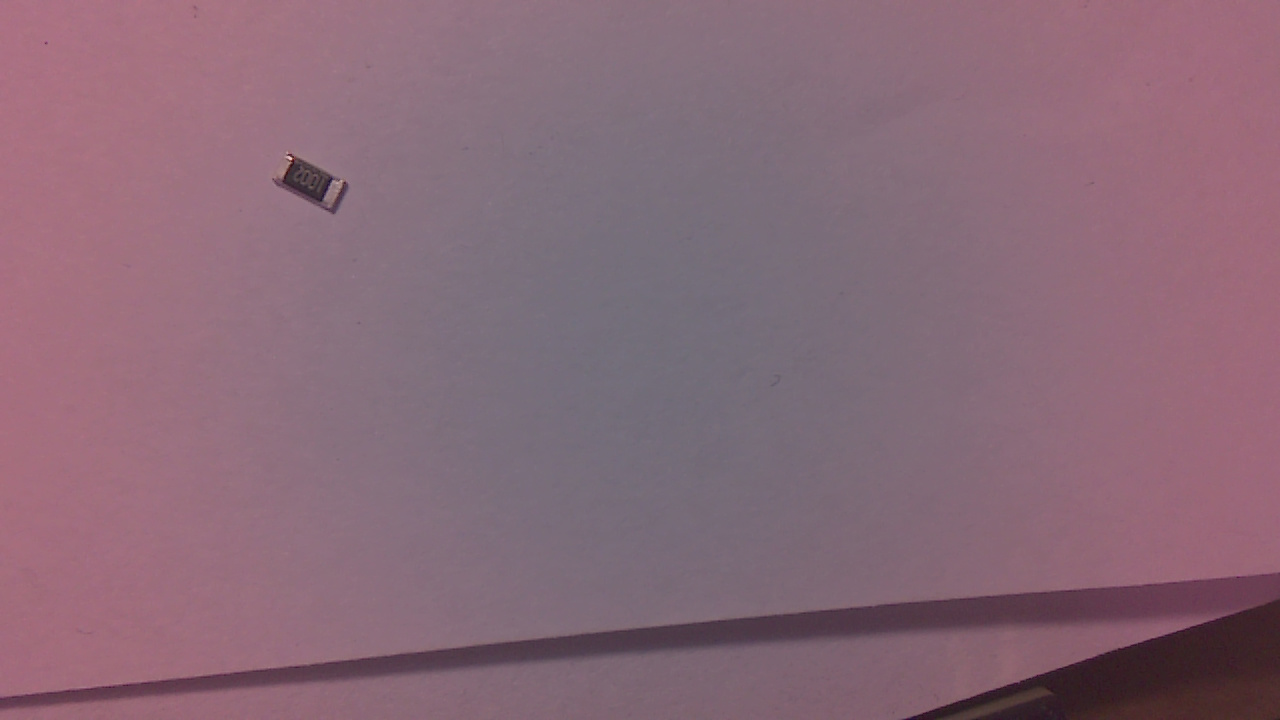Resistor: (280, 160, 362, 217)
